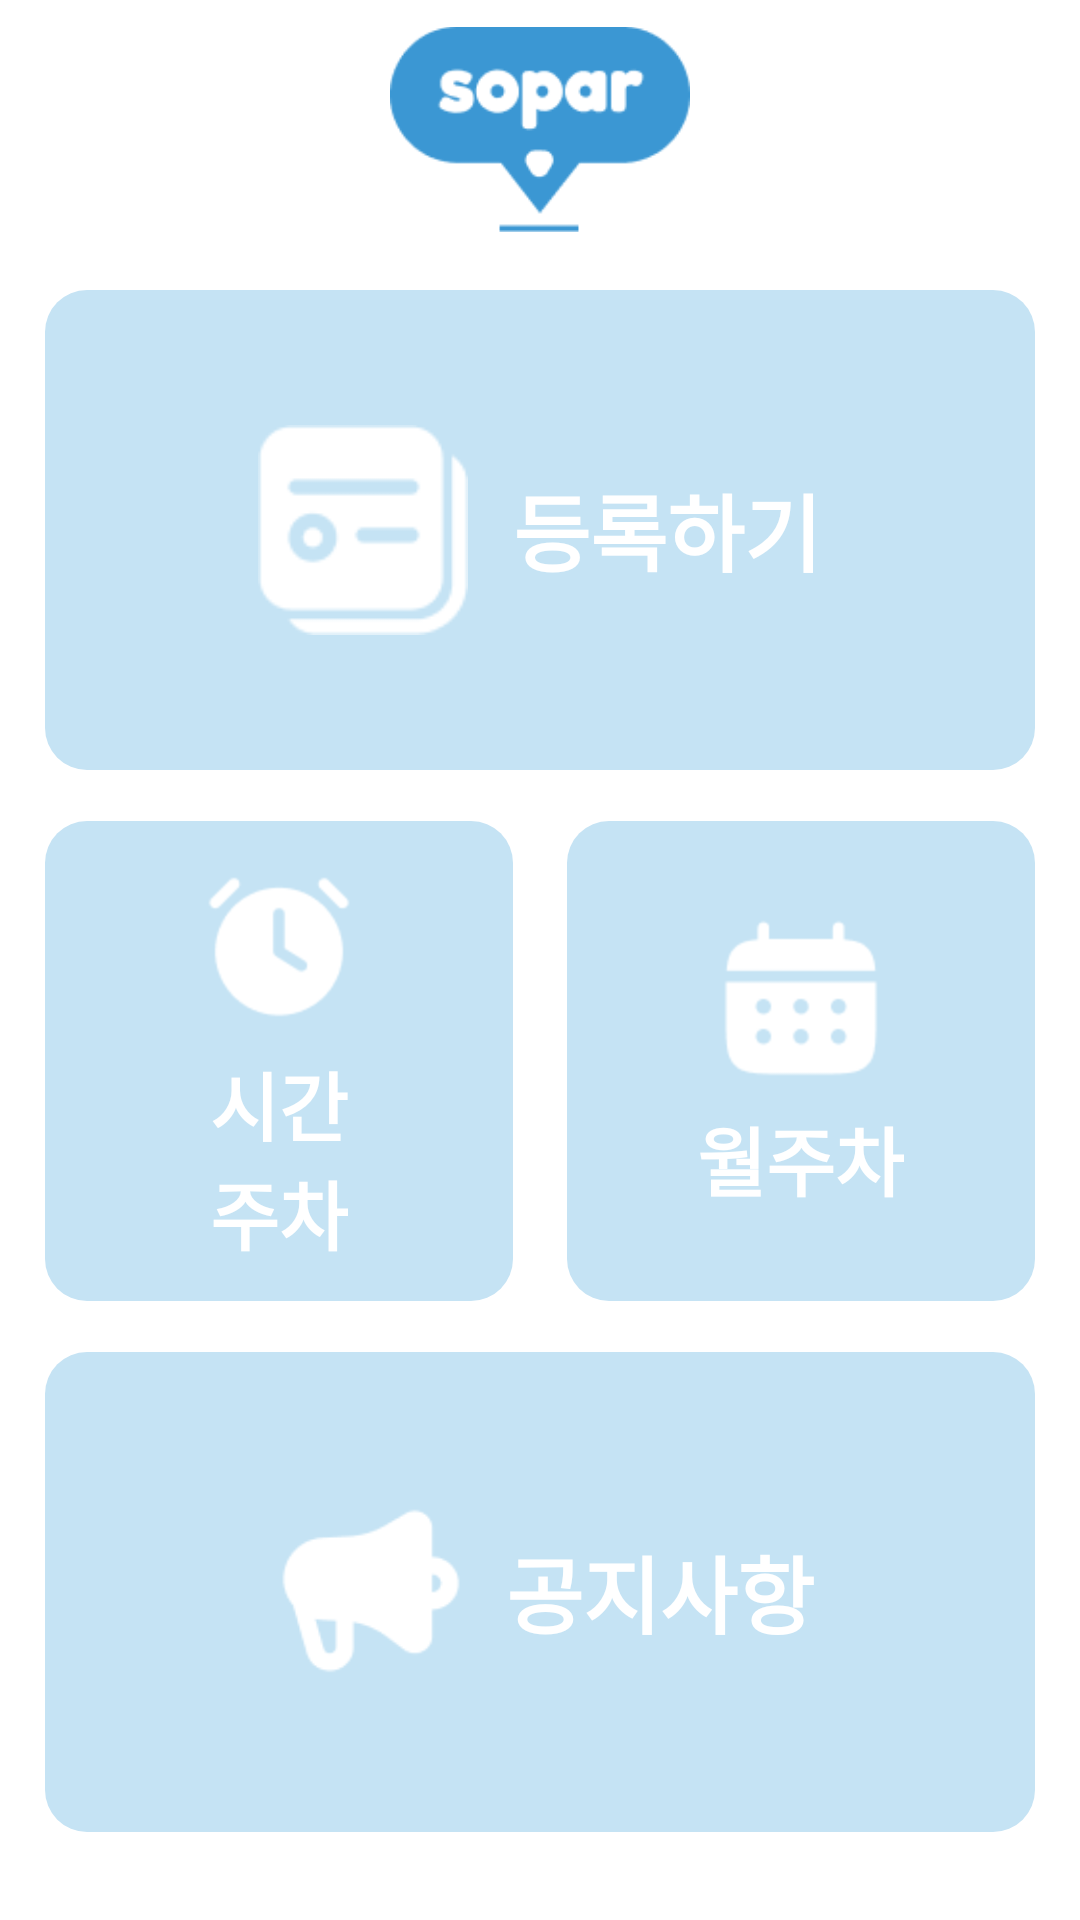

Screen size 1080w x 1920h. Icon name, then its box in pixels as (x1, y1, x2, y2):
hourly parking: (209, 878, 349, 1016)
monthly parking: (726, 922, 876, 1074)
notice: (283, 1511, 459, 1671)
register: (260, 427, 468, 635)
